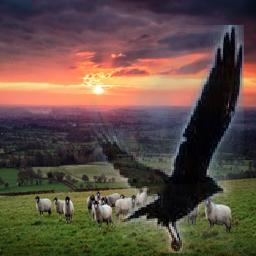Crow: (90, 25, 244, 253)
